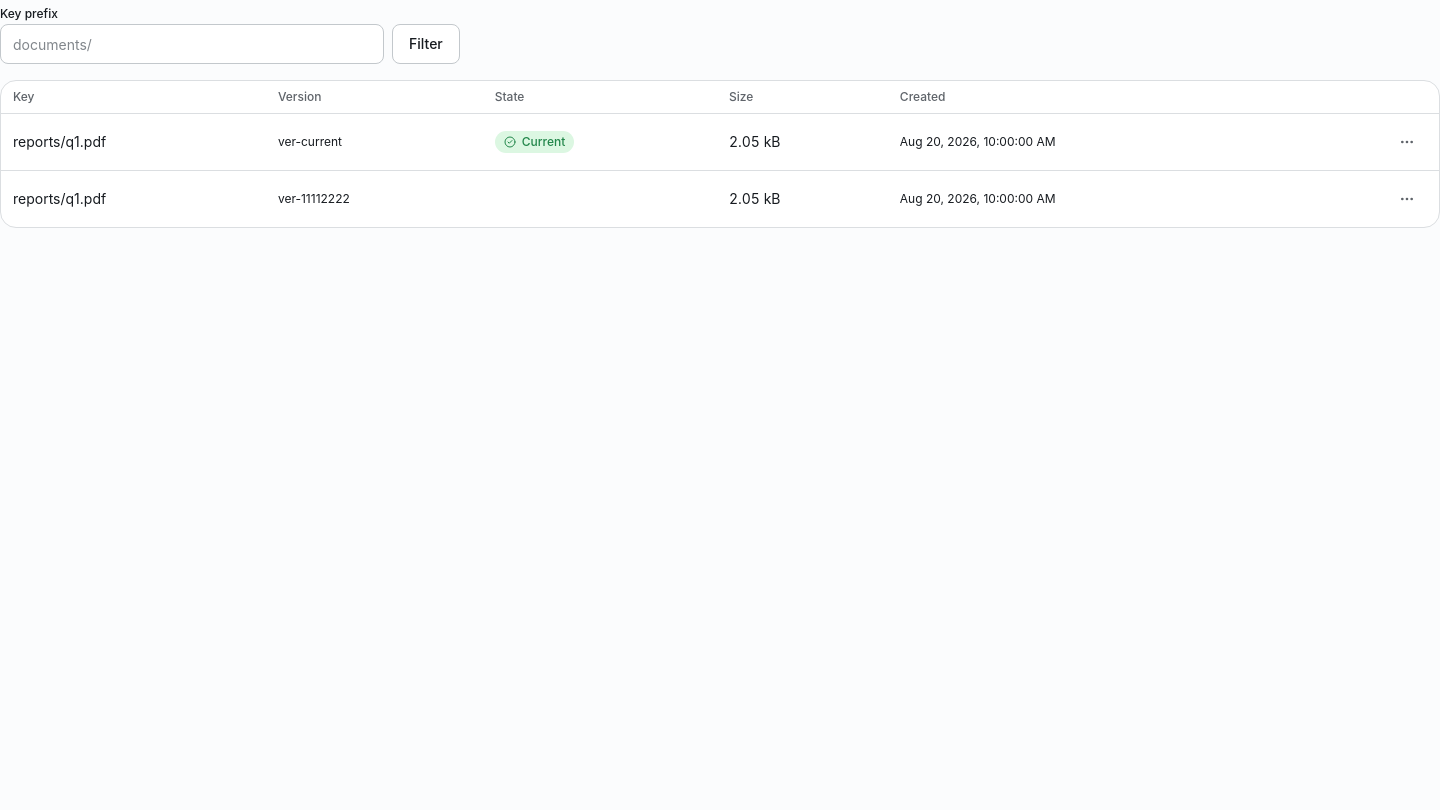
Test: ObjectVersions restore › explains that restoring adds a version rather than rewriting history
Click the button named "actions" at [1407, 199], box [1387,179,1427,219]
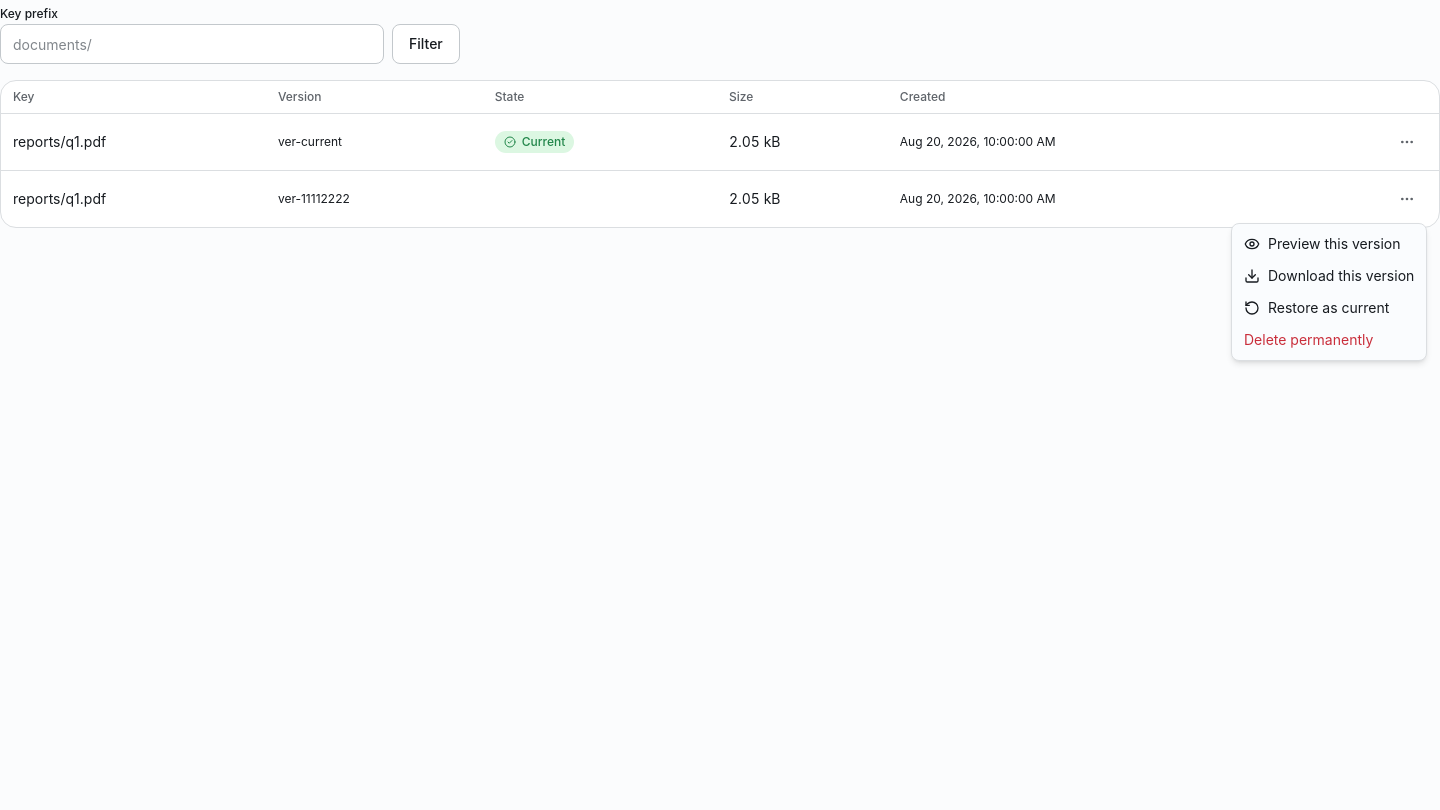
Click the menu item "Restore as current" at [1317, 308], box [1244,299,1389,316]
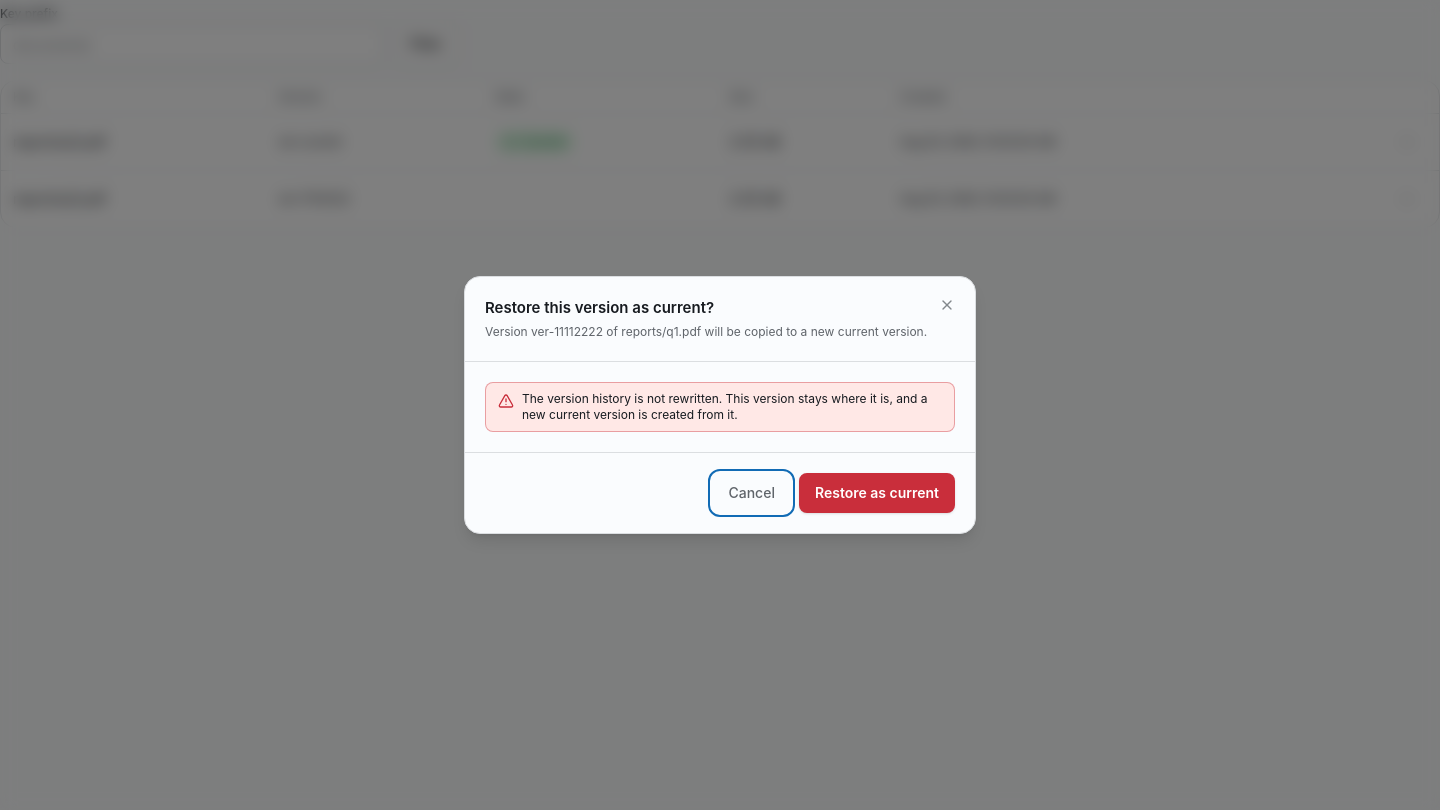
Expected: the dialog shows "version history is not rewritten", [522,391,928,422]
Expected: the dialog shows "new current version is created", [522,391,928,422]
